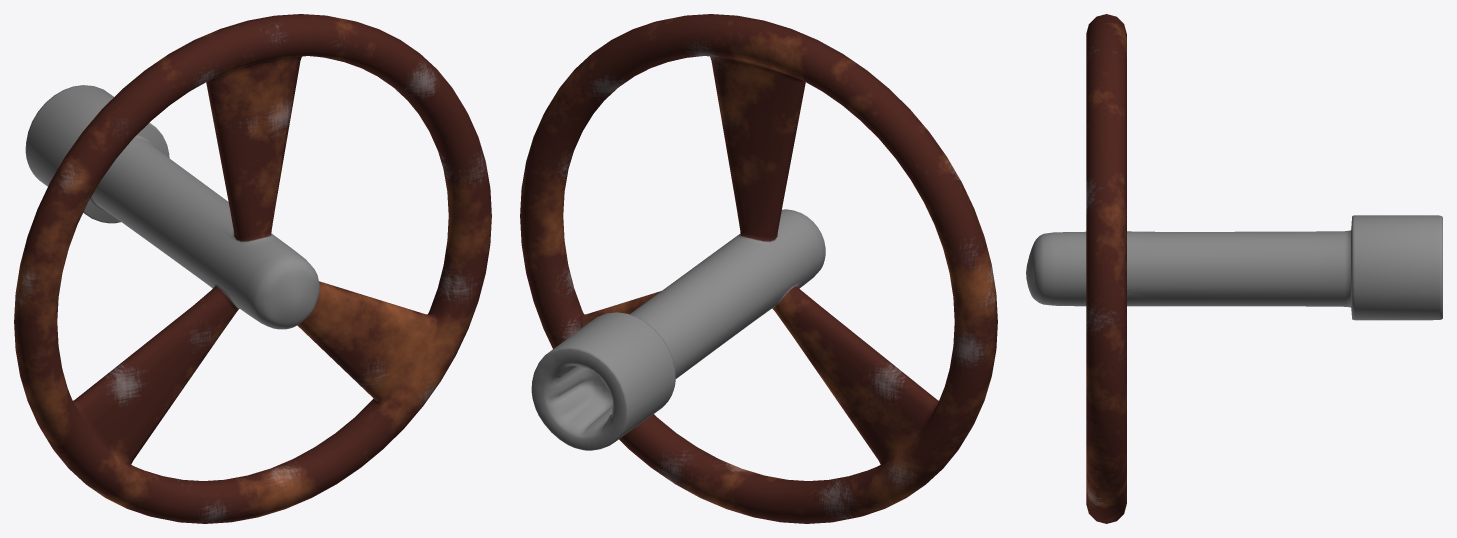
The model's file is valve.fbx.
3 renders of one model, left to right at view 1: azimuth 30°, elevation 25°; view 2: azimuth 150°, elevation 25°; view 3: azimuth 270°, elevation 25°, orthographic. The views are drawn at different scales.
Parts seen in each view (by area): view 1: BezierCircle; view 2: BezierCircle; view 3: BezierCircle.
Part boxes in pixels (x1,y1,x2,y2): BezierCircle: [14, 14, 491, 523]; BezierCircle: [520, 14, 997, 523]; BezierCircle: [1026, 14, 1442, 523].
Bounding box in the file's own units: 185 × 185 × 152.
